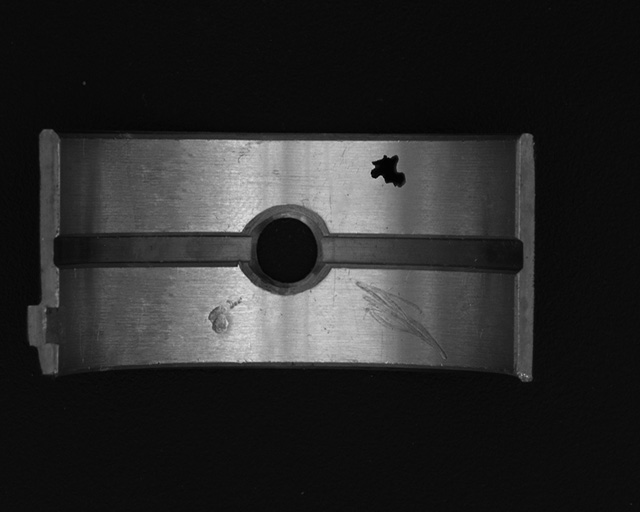blot: (370, 154, 406, 189)
bruise: (207, 296, 242, 334)
gap: (318, 234, 522, 274), (53, 234, 252, 268)
hole: (246, 207, 329, 291)
nick: (356, 281, 448, 360)
